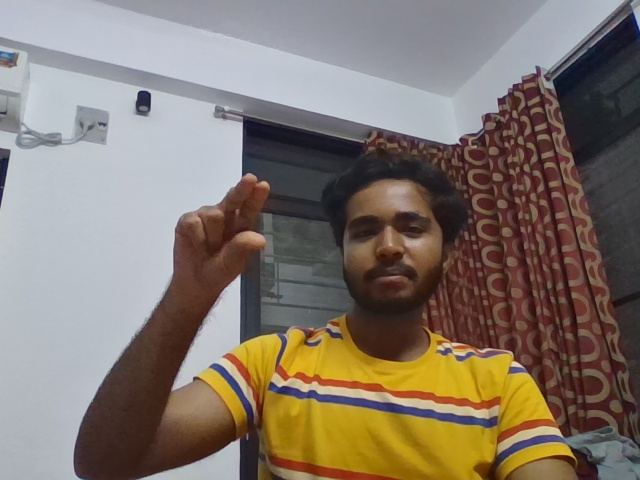No: (143, 164, 285, 322)
